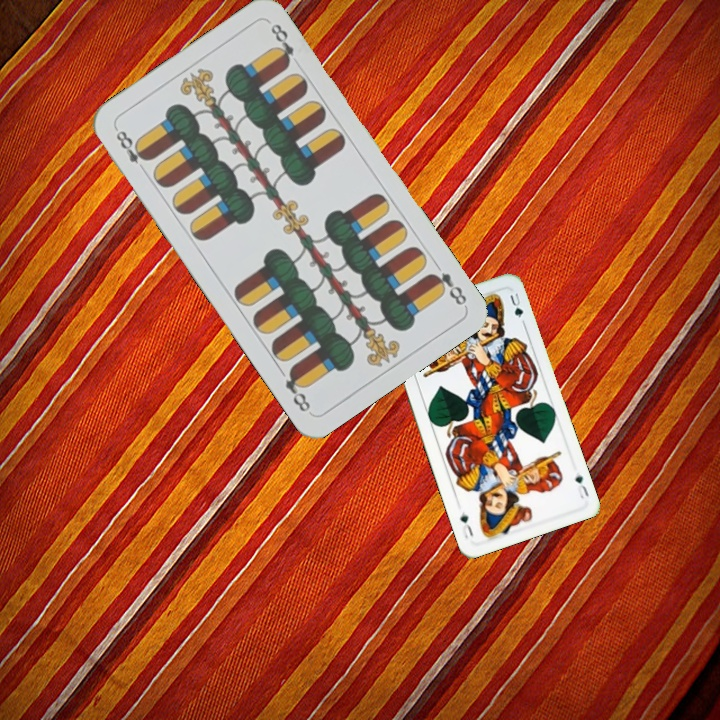E8: (111, 124, 152, 176), (425, 268, 470, 308)
GU: (571, 468, 591, 501)
